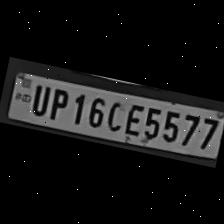1: (64, 88, 89, 125)
5: (156, 106, 183, 144), (139, 102, 164, 140)
6: (82, 92, 108, 130)
7: (192, 113, 220, 152), (176, 108, 201, 148)
C: (100, 96, 127, 134)
E: (120, 99, 144, 138)
P: (44, 83, 72, 122)
U: (24, 78, 51, 116)
